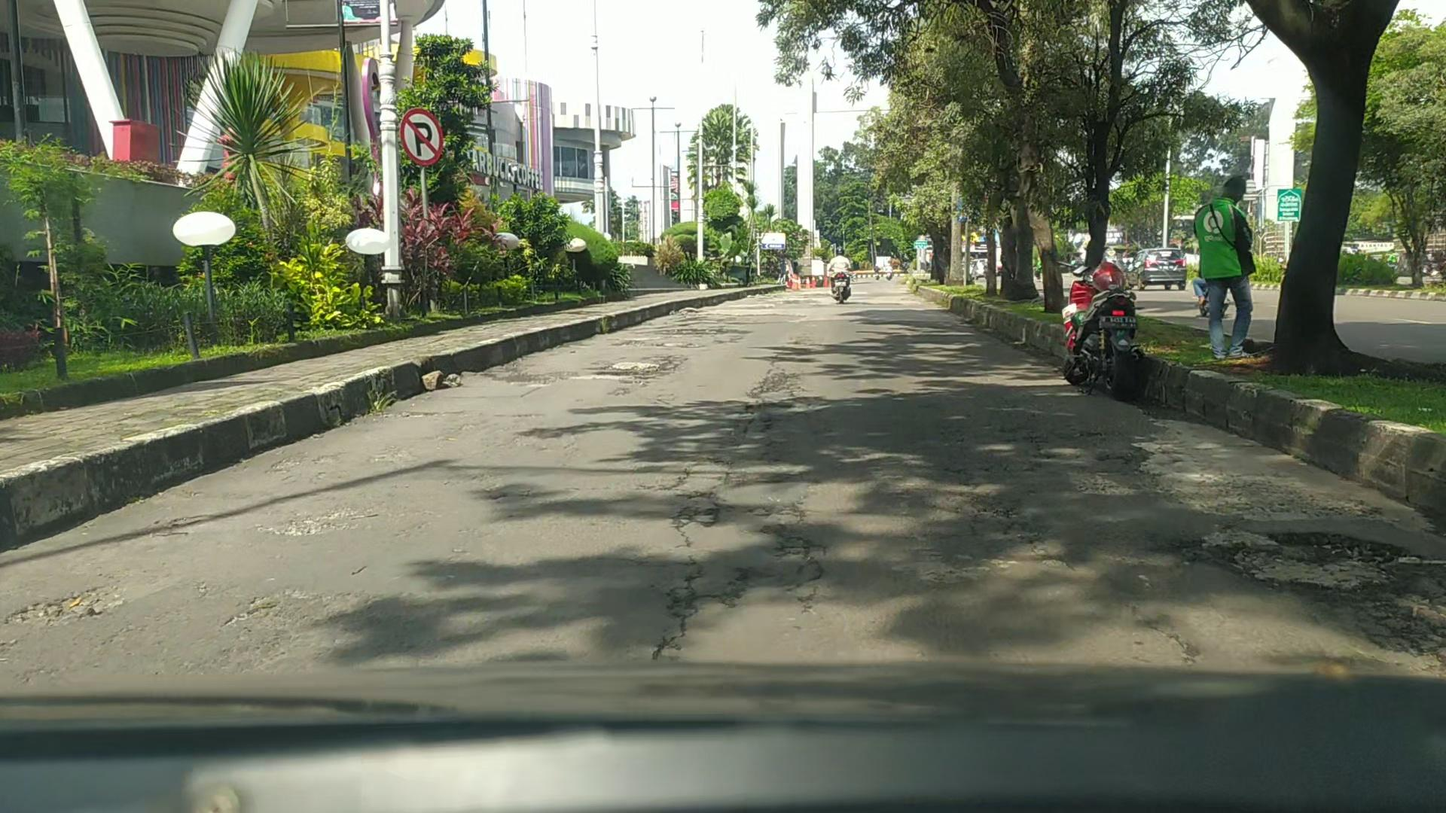pothole: (1190, 531, 1413, 588), (599, 358, 679, 376)
